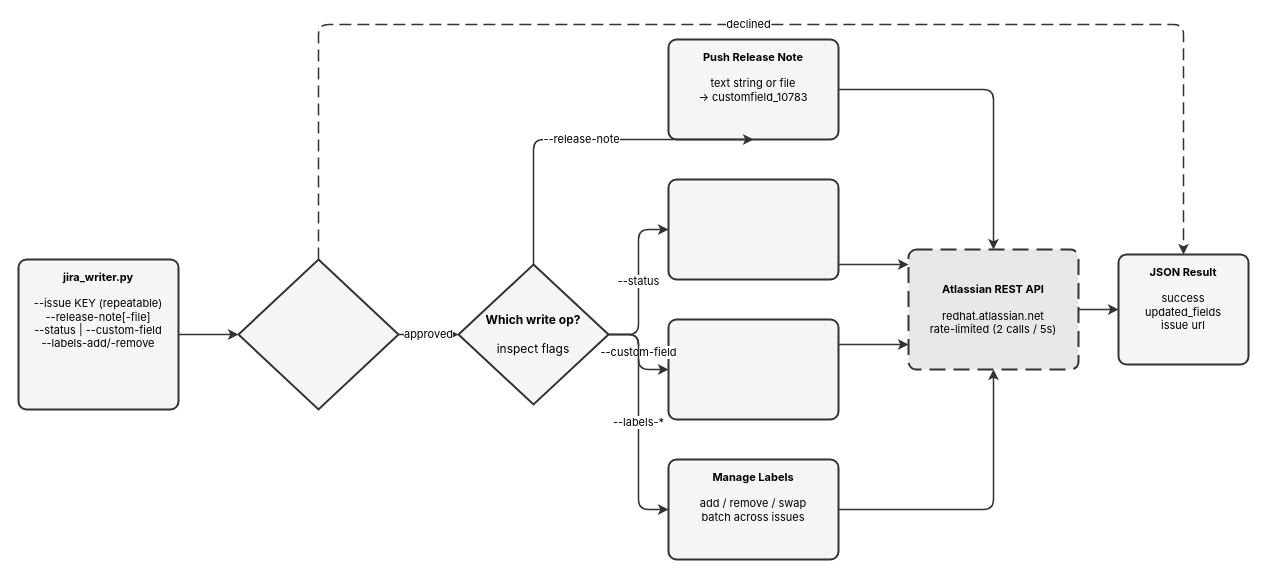
The diagram is 1266 pixels wide and 578 high, and some of its shapes have lost their labels. Each missing label, with the centre of its shape:
"Confirm change? preview updates warn: modifies JIRA" goes at point (318, 334).
"Set Custom Field --custom-field ID --value content" goes at point (753, 369).
"Update Status Proposed / Approved / Rejected → customfield_10807" goes at point (753, 229).
